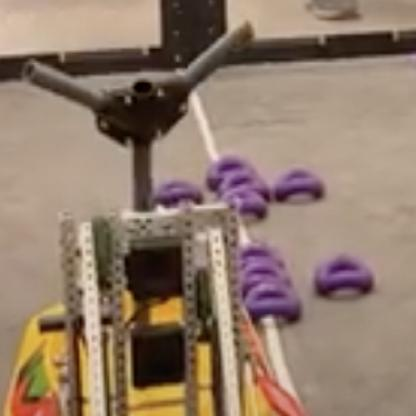ring: (312, 253, 374, 295), (244, 277, 299, 323), (204, 150, 252, 185), (238, 260, 291, 290), (274, 168, 324, 198), (216, 168, 269, 196), (219, 188, 267, 215), (235, 242, 281, 270), (152, 179, 202, 203)
